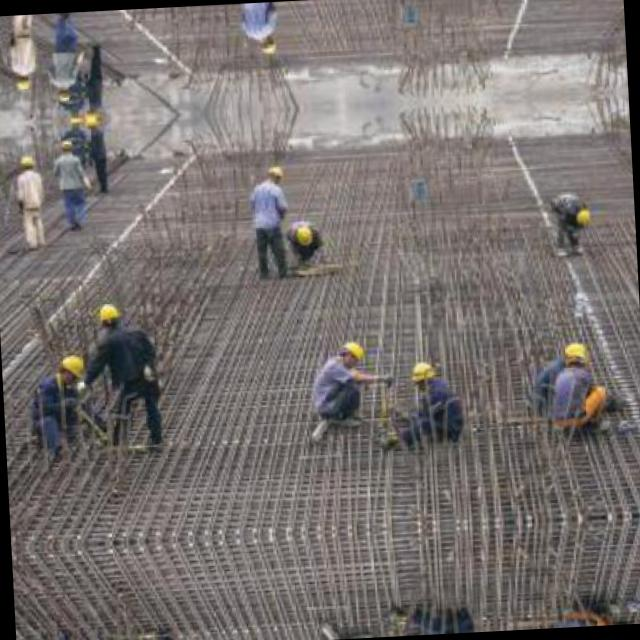helmet: (54, 348, 85, 386), (558, 339, 594, 370), (288, 218, 321, 250), (334, 335, 364, 370), (408, 358, 438, 388), (94, 300, 123, 331), (570, 200, 596, 230), (260, 160, 284, 189), (254, 31, 278, 60)
